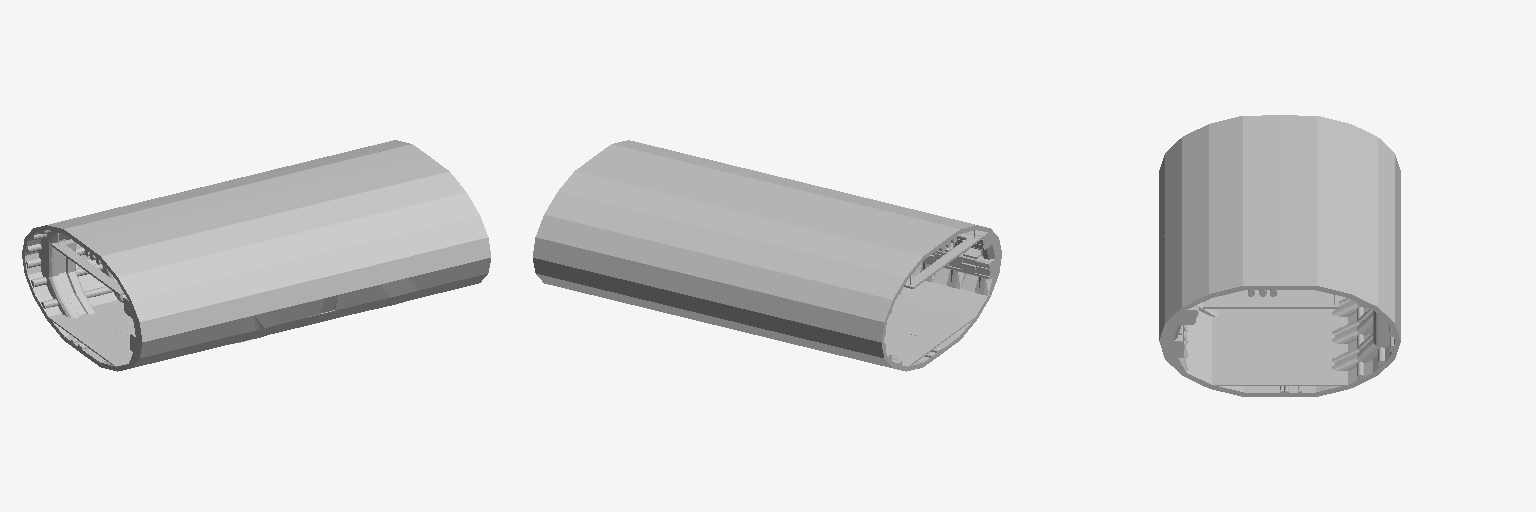
File: OvalHallwayNonUV.obj
3 views of the same model, side by side, from view 1: azimuth 30°, elevation 25°; view 2: azimuth 150°, elevation 25°; view 3: azimuth 270°, elevation 25° (orthographic).
Parts seen in each view (by area): view 1: HallwayMain, pCube1; view 2: HallwayMain, pCube1; view 3: HallwayMain, pCube1.
Boxes of the visible parts, x1,y1,x2,y2 form: HallwayMain: [22, 140, 490, 371]; pCube1: [51, 233, 124, 295]; HallwayMain: [533, 140, 1001, 371]; pCube1: [904, 230, 981, 288]; HallwayMain: [1159, 115, 1400, 396]; pCube1: [1203, 294, 1338, 308].
Size of the model in its own units: 26.71 by 8.14 by 15.97.